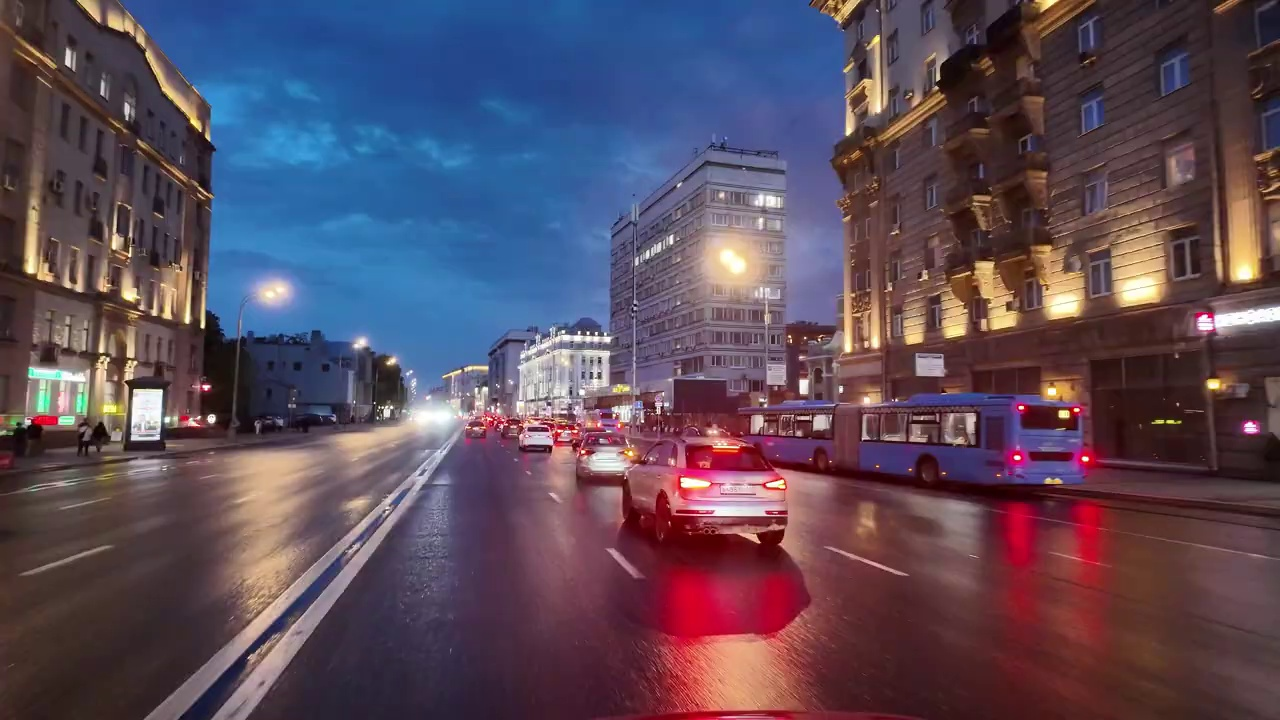acesa: (710, 242, 754, 284), (258, 279, 287, 305), (352, 332, 370, 352)
